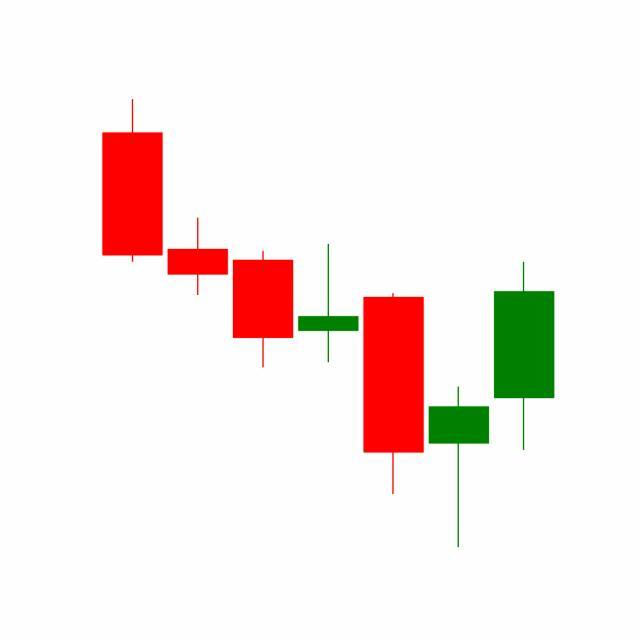Three Inside Up-Down: (360, 258, 556, 549)
